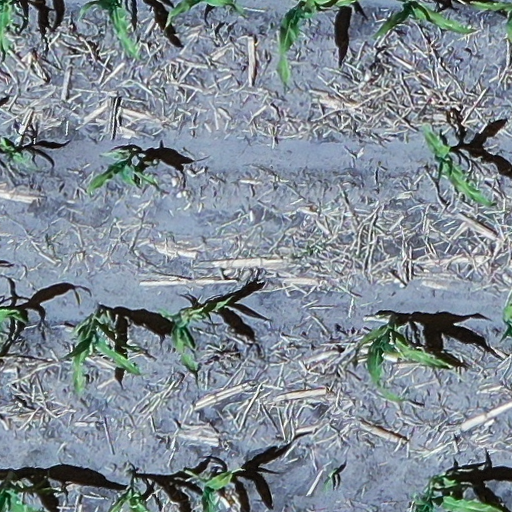planta: (358, 324, 452, 402), (69, 311, 142, 394), (422, 123, 494, 206), (158, 294, 235, 371), (87, 150, 171, 195)
